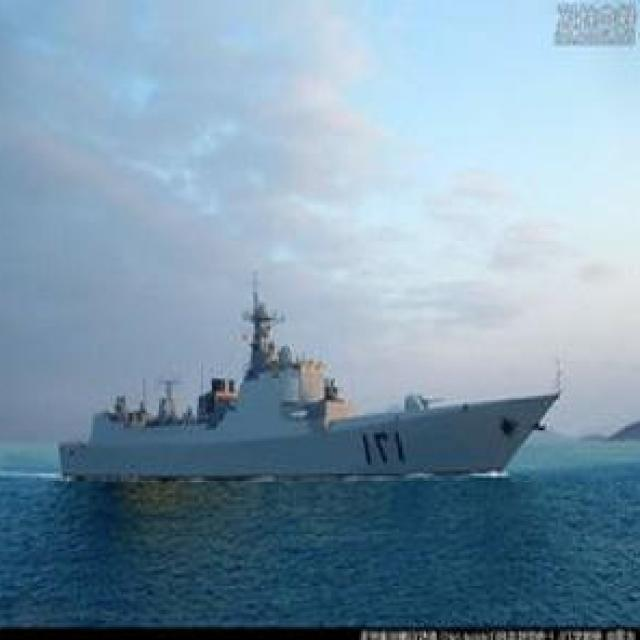navalvessels: (52, 269, 558, 512)
